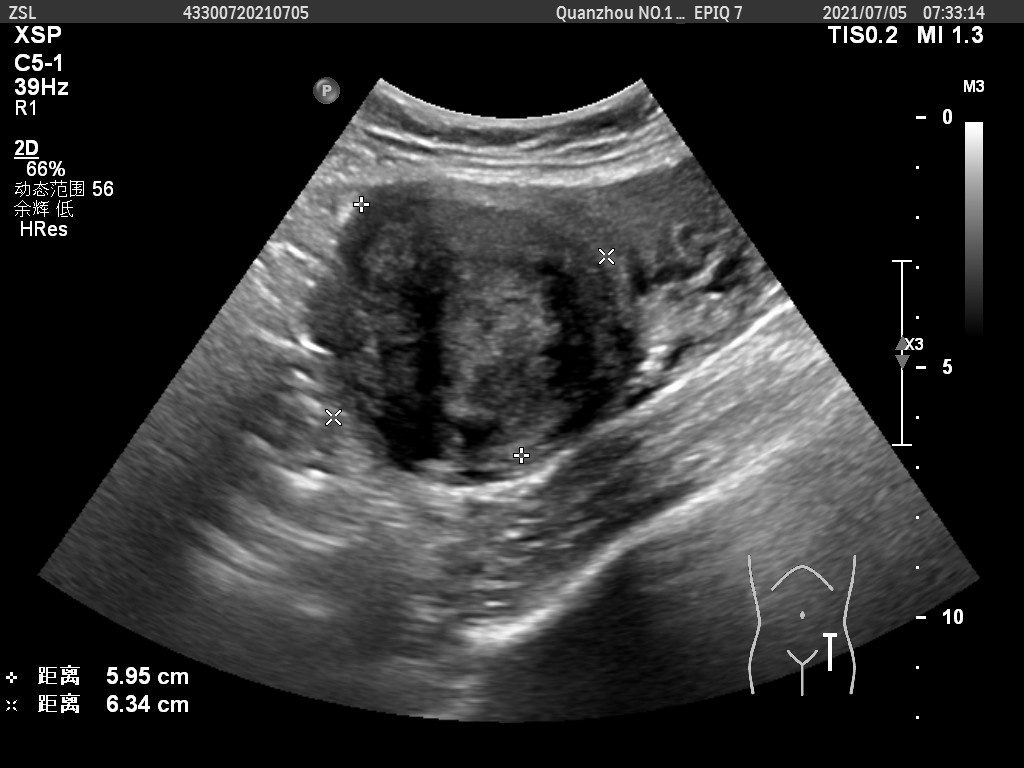肌瘤: (331, 202, 611, 454)
